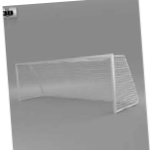goals: (15, 52, 141, 116)
